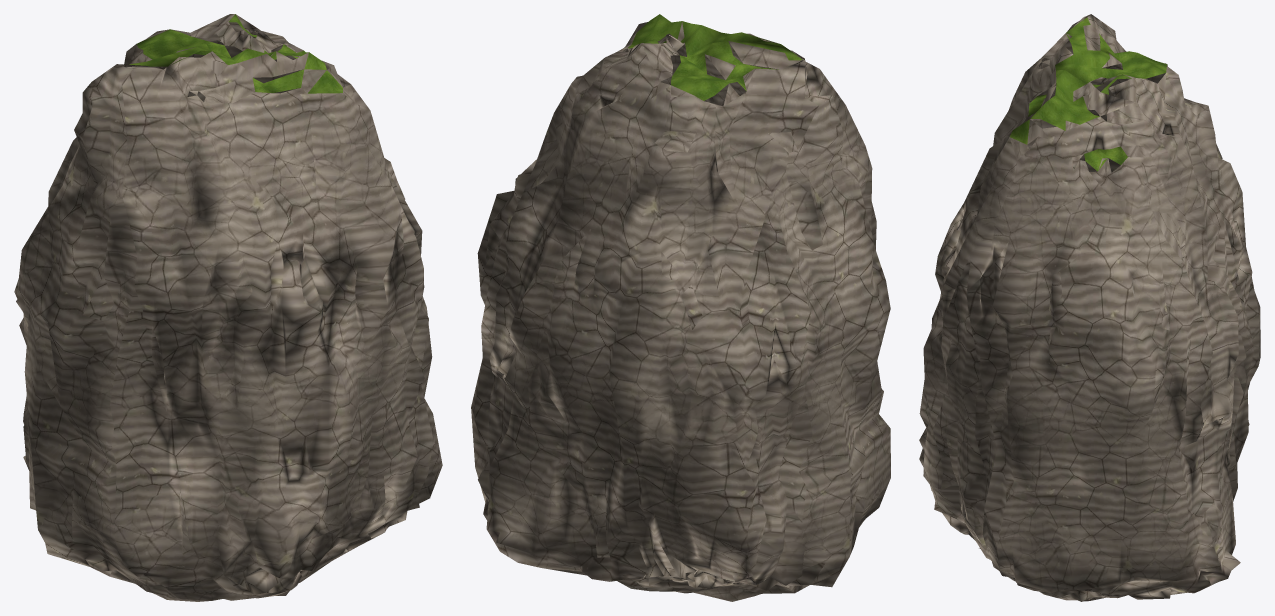
Rendered from rock_sea_stack.glb.
3 renders of one model, left to right at view 1: azimuth 30°, elevation 25°; view 2: azimuth 150°, elevation 25°; view 3: azimuth 270°, elevation 25°, orthographic. The views are drawn at different scales.
Visible parts, largest first — view 1: rock_sea_stack_Rock; view 2: rock_sea_stack_Rock; view 3: rock_sea_stack_Rock.
Part boxes in pixels (x1,y1,x2,y2): rock_sea_stack_Rock: [14, 14, 442, 601]; rock_sea_stack_Rock: [471, 14, 890, 601]; rock_sea_stack_Rock: [919, 14, 1260, 601].
Size of the model in its own units: 3.49 by 4.92 by 2.96.
2 materials, 2 textured.
